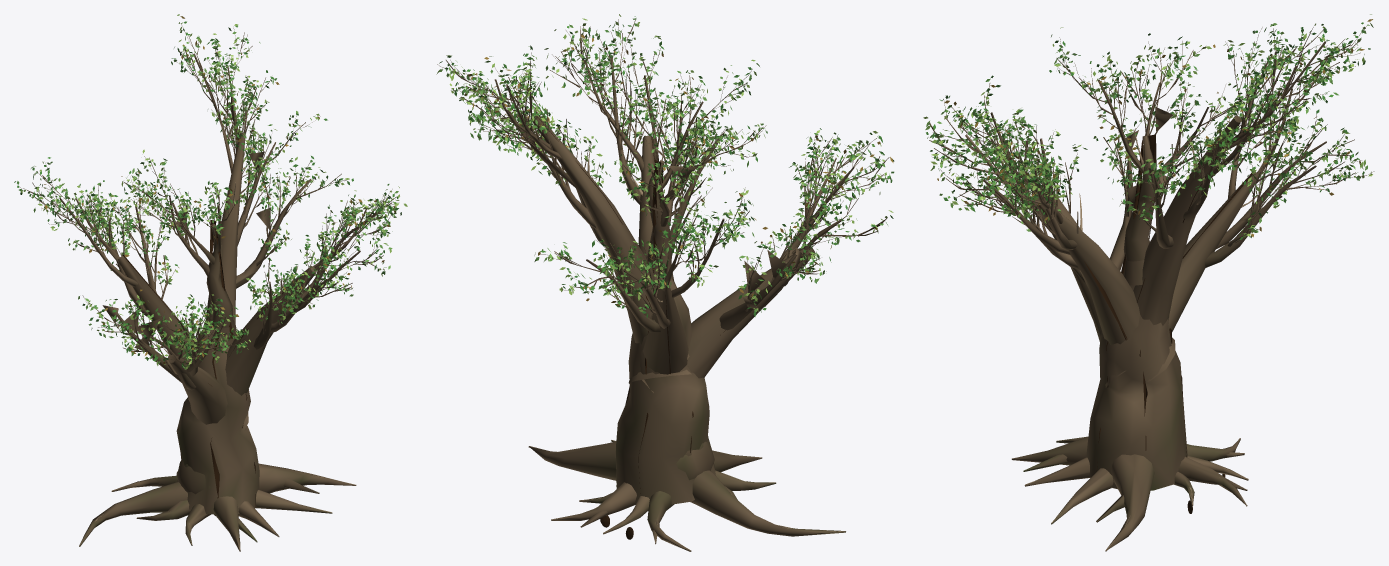
Rendered from ancient_tree_09_lod2.glb.
3 renders of one model, left to right at view 1: azimuth 30°, elevation 25°; view 2: azimuth 150°, elevation 25°; view 3: azimuth 270°, elevation 25°, orthographic. The views are drawn at different scales.
Parts seen in each view (by area): view 1: AncientTreeWood_LOD2, AncientLeaves_LOD2, FineBranches_LOD2, DirectedBarkGrooves_LOD2; view 2: AncientTreeWood_LOD2, AncientLeaves_LOD2, FineBranches_LOD2, DirectedBarkGrooves_LOD2; view 3: AncientTreeWood_LOD2, AncientLeaves_LOD2, FineBranches_LOD2, DirectedBarkGrooves_LOD2.
Part boxes in pixels (<box>): AncientTreeWood_LOD2: <box>32,32,395,551</box>; AncientLeaves_LOD2: <box>14,14,407,369</box>; FineBranches_LOD2: <box>19,23,395,364</box>; DirectedBarkGrooves_LOD2: <box>122,133,308,507</box>; AncientTreeWood_LOD2: <box>446,26,883,551</box>; AncientLeaves_LOD2: <box>436,14,894,317</box>; FineBranches_LOD2: <box>437,19,890,310</box>; DirectedBarkGrooves_LOD2: <box>538,118,812,493</box>; AncientTreeWood_LOD2: <box>929,27,1361,551</box>; AncientLeaves_LOD2: <box>923,14,1373,239</box>; FineBranches_LOD2: <box>929,24,1374,242</box>; DirectedBarkGrooves_LOD2: <box>1039,134,1252,471</box>.
Bounding box in the file's own units: 17.75 × 25.59 × 20.22.
